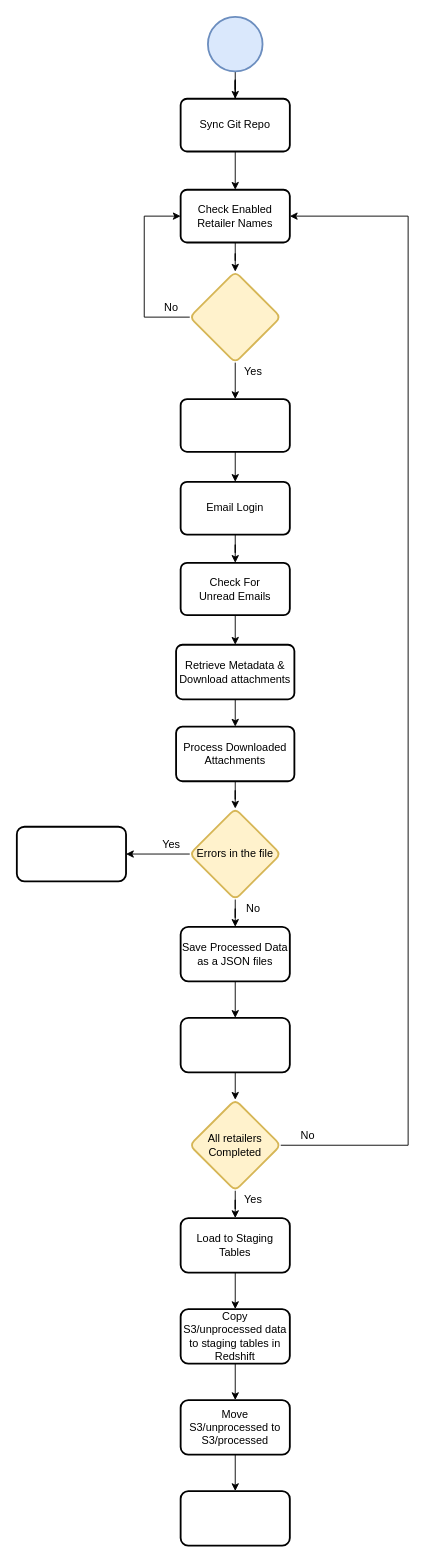
Some shapes in this 431 by 1562 pixel diagram are drawn without their labels. The centre of each missing label's shape, as x and y in pixels:
Copy Data from staging tables to final DWH: the point at 234,1518
Extract Retailer Data: the point at 234,425
Retailer Name Available: the point at 234,316
Send a email regarding the error: the point at 70,853
Start: the point at 235,43
Upload raw and JSON files to S3/unprocessed: the point at 234,1044
